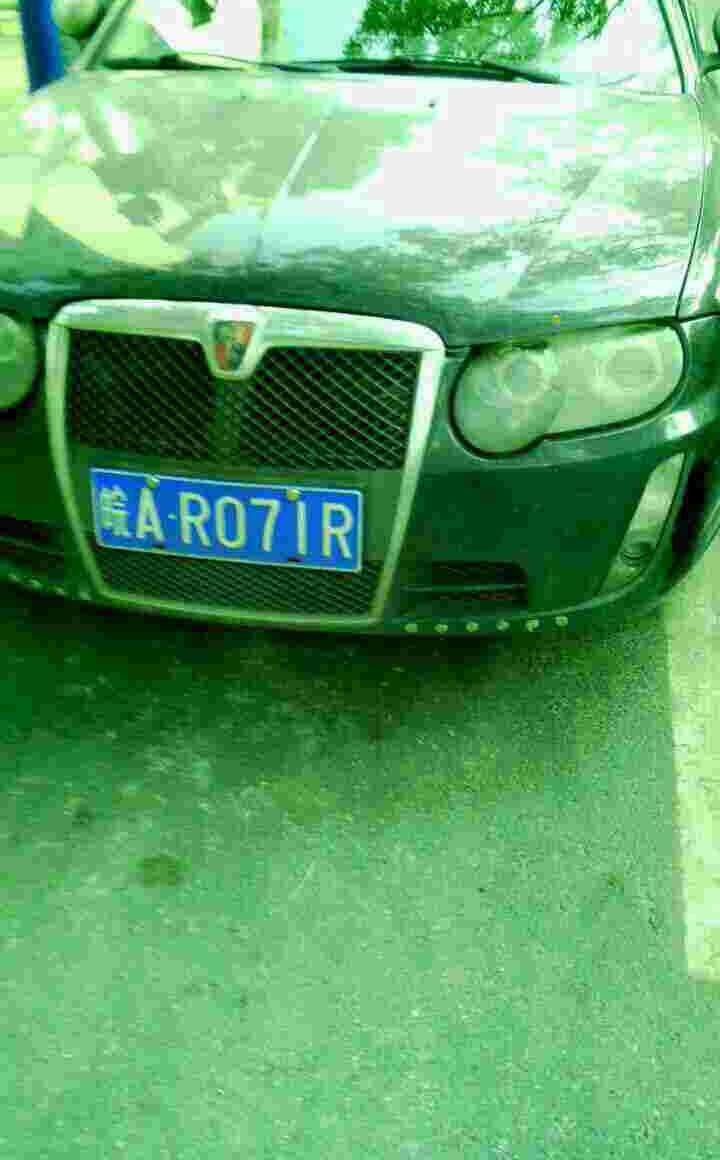license_plate: (92, 478, 362, 574)
